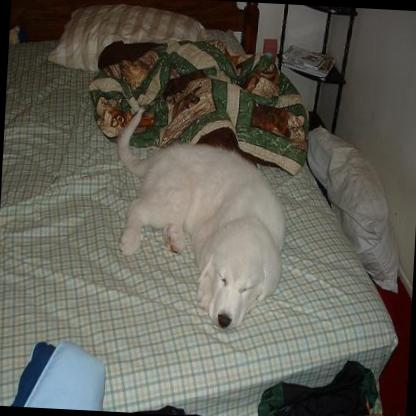Great_Pyrenees: (104, 105, 292, 332)
